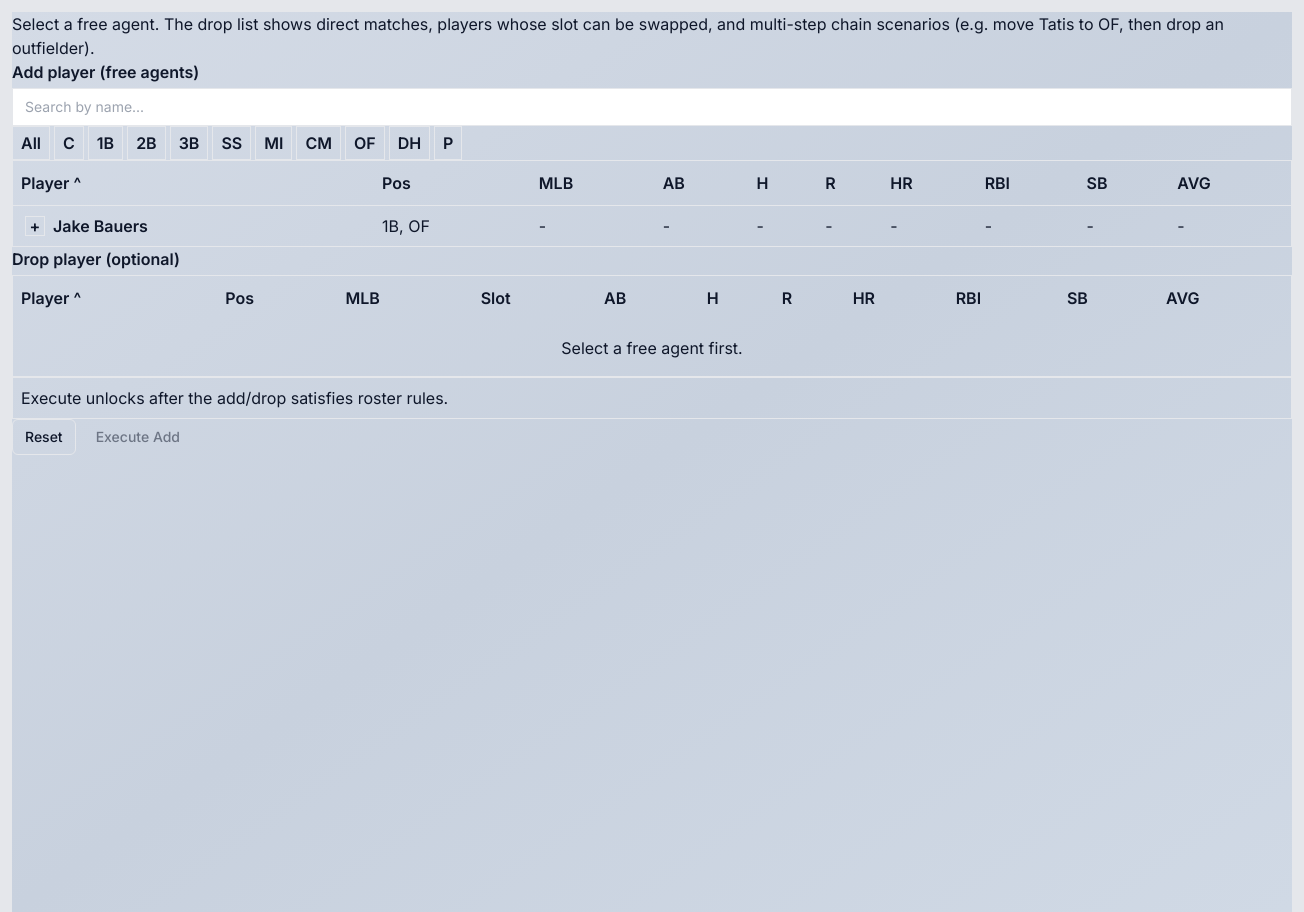
Scenario: AddDropPanel — preseason / SETUP › non-in-season, submit enables with only an add selected (no drop)
The image size is (1304, 912).
Click the text "Jake Bauers": (100, 226) [53,214,148,238]
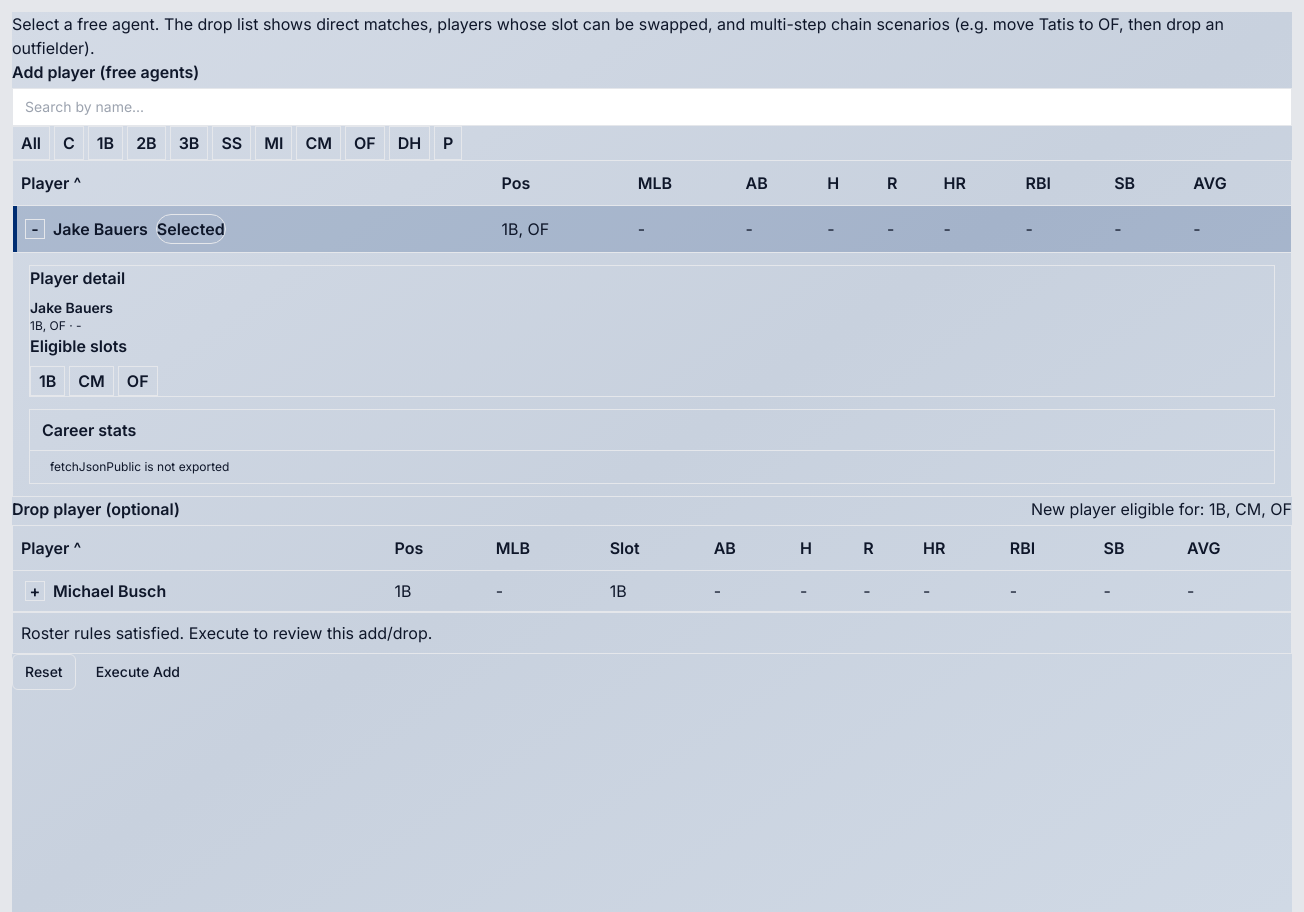
expect the button "Execute Add" is enabled: met, box [84,654,192,690]
